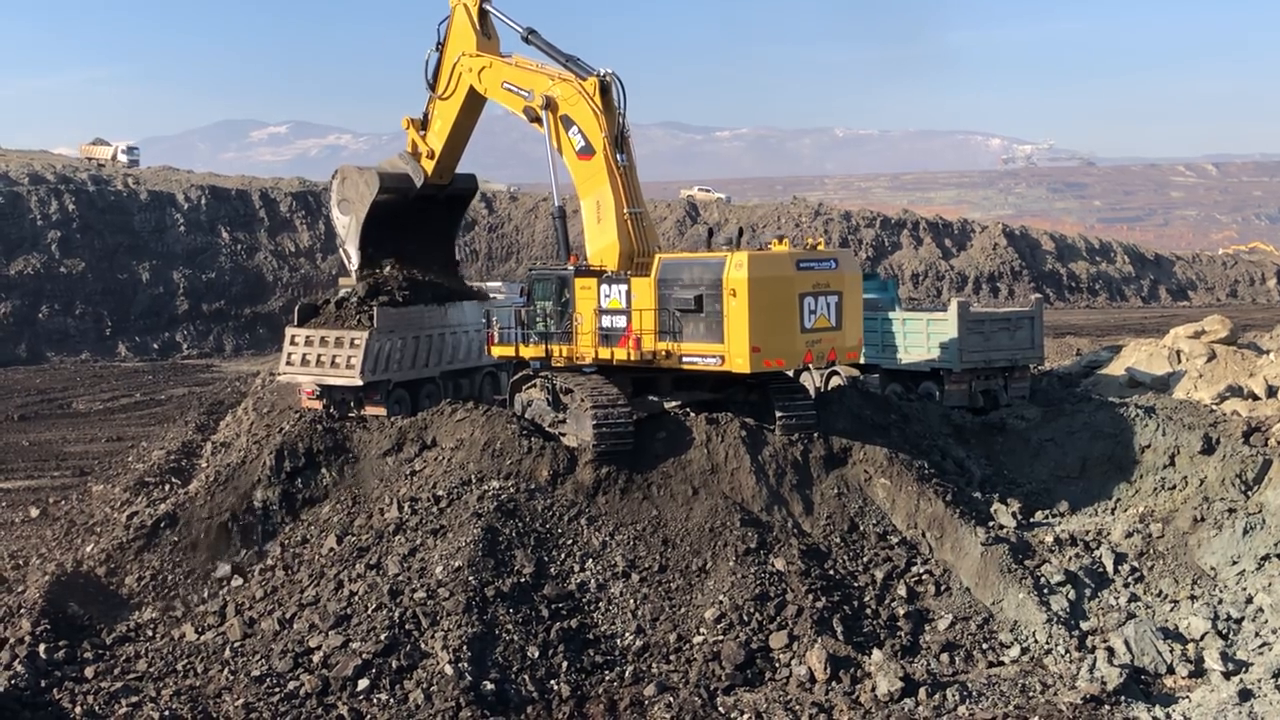full: (324, 151, 482, 285)
